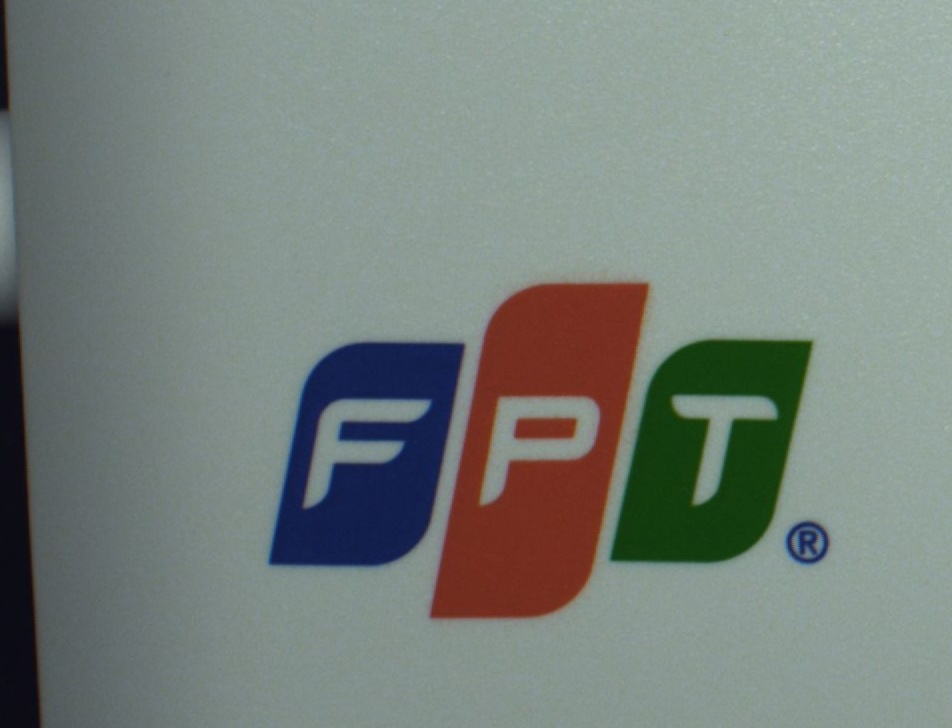BR_FPT: (252, 276, 829, 624)
